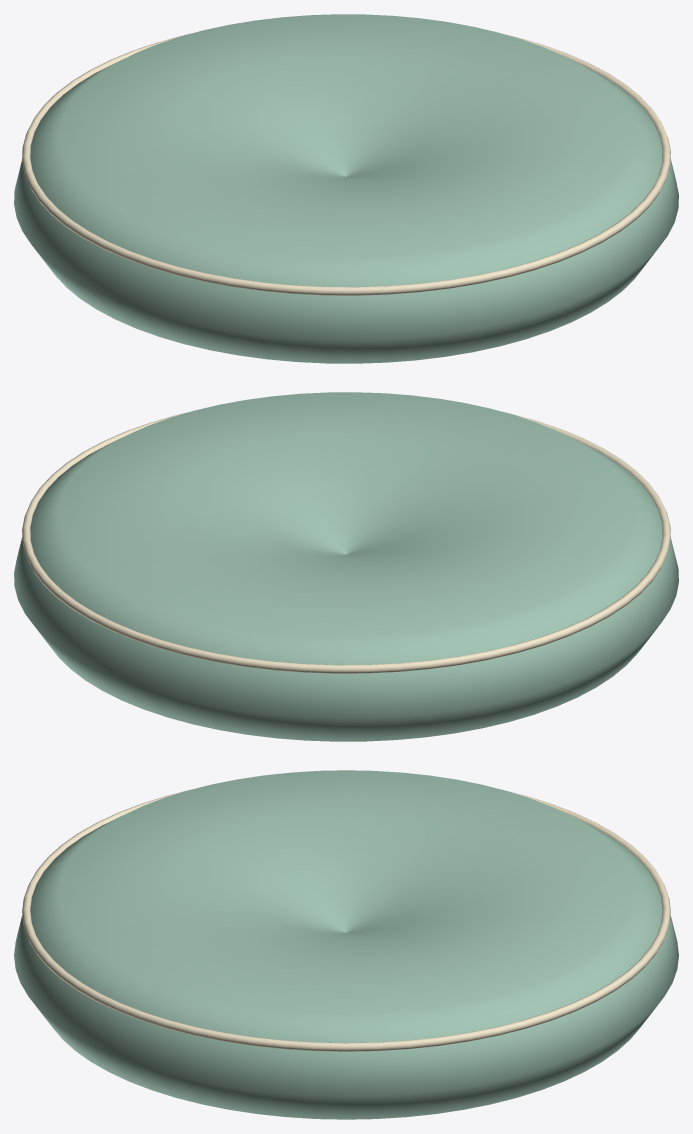
The model's file is cushion.glb.
3 views of the same model, one above another, from view 1: azimuth 30°, elevation 25°; view 2: azimuth 150°, elevation 25°; view 3: azimuth 270°, elevation 25° (orthographic).
Visible parts, largest first — view 1: Cushion_tufted_shell, Cushion_cream_piping; view 2: Cushion_tufted_shell, Cushion_cream_piping; view 3: Cushion_tufted_shell, Cushion_cream_piping.
Part boxes in pixels (x1,y1,x2,y2): Cushion_tufted_shell: (14, 14, 678, 363); Cushion_cream_piping: (22, 33, 670, 295); Cushion_tufted_shell: (14, 392, 678, 741); Cushion_cream_piping: (22, 411, 670, 673); Cushion_tufted_shell: (14, 770, 678, 1119); Cushion_cream_piping: (22, 791, 670, 1051).
Bounding box in the file's own units: 1.32 × 0.255 × 1.32.
